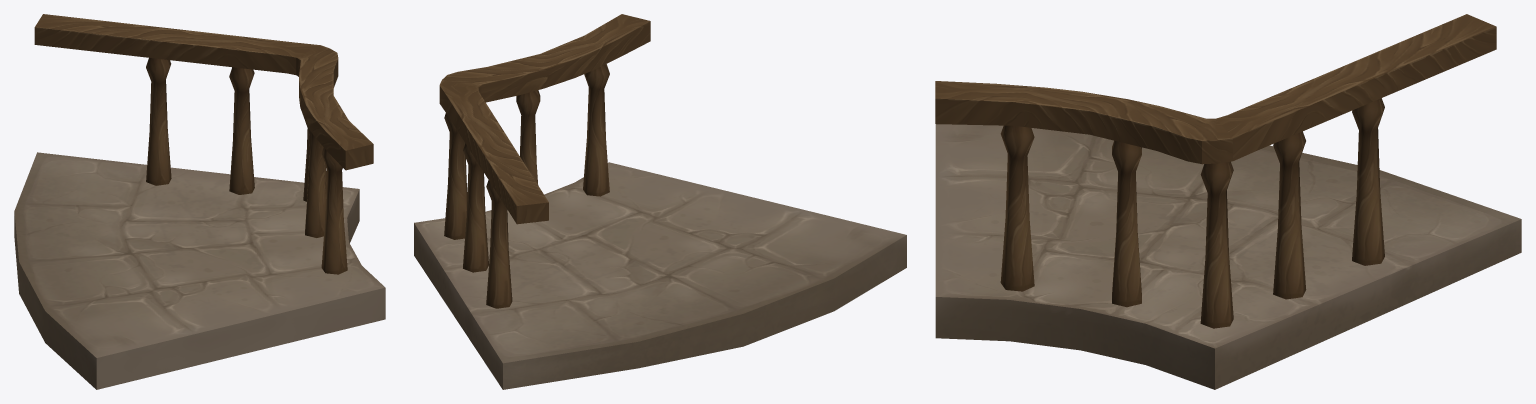
File: Balcony_corner.FBX
3 views of the same model, side by side, from view 1: azimuth 30°, elevation 25°; view 2: azimuth 150°, elevation 25°; view 3: azimuth 270°, elevation 25° (orthographic). The views are drawn at different scales.
Parts seen in each view (by area): view 1: Balcony_corner; view 2: Balcony_corner; view 3: Balcony_corner.
Boxes of the visible parts, x1=… form: Balcony_corner: x1=14, y1=14, x2=385, y2=389; Balcony_corner: x1=414, y1=14, x2=906, y2=389; Balcony_corner: x1=935, y1=14, x2=1521, y2=389.
Bounding box in the file's own units: 2801 × 1289 × 2956.
